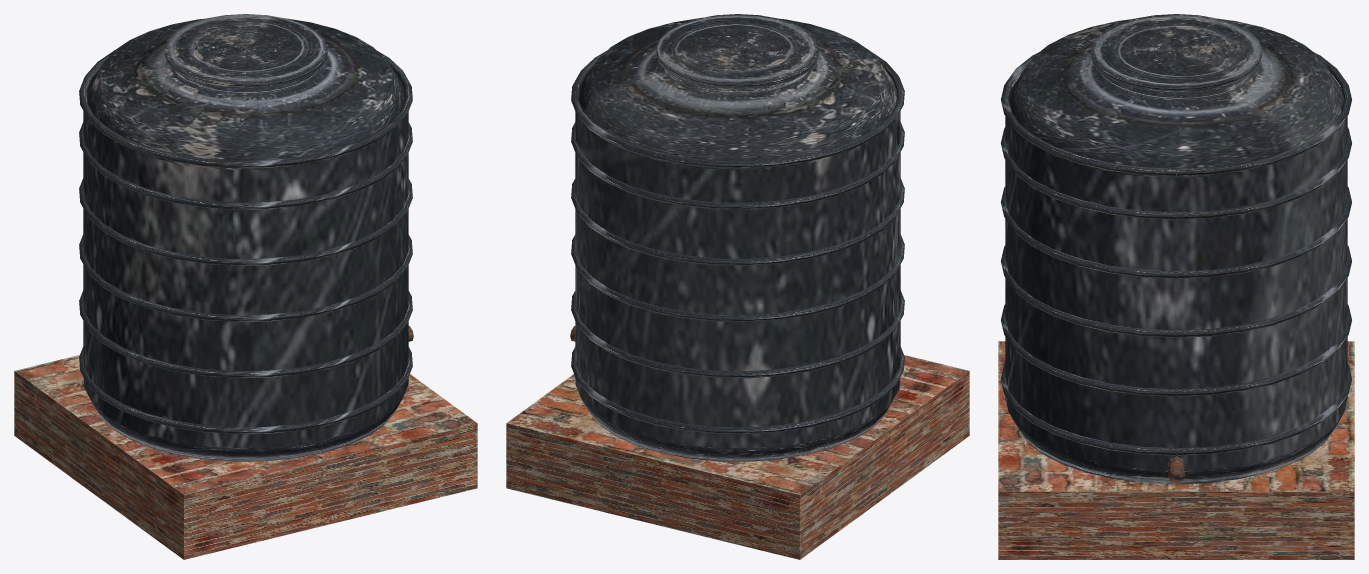
File: prop_water_tank.glb
3 views of the same model, side by side, from view 1: azimuth 30°, elevation 25°; view 2: azimuth 150°, elevation 25°; view 3: azimuth 270°, elevation 25° (orthographic). The views are drawn at different scales.
Visible parts, largest first — view 1: prop_water_tank; view 2: prop_water_tank; view 3: prop_water_tank.
Part boxes in pixels (box(x1,y1,x2,y2)): prop_water_tank: box(14, 14, 477, 559); prop_water_tank: box(506, 14, 969, 559); prop_water_tank: box(998, 14, 1354, 559).
Size of the model in its own units: 1.1 by 1.4 by 1.04.
3 materials, 3 textured.
